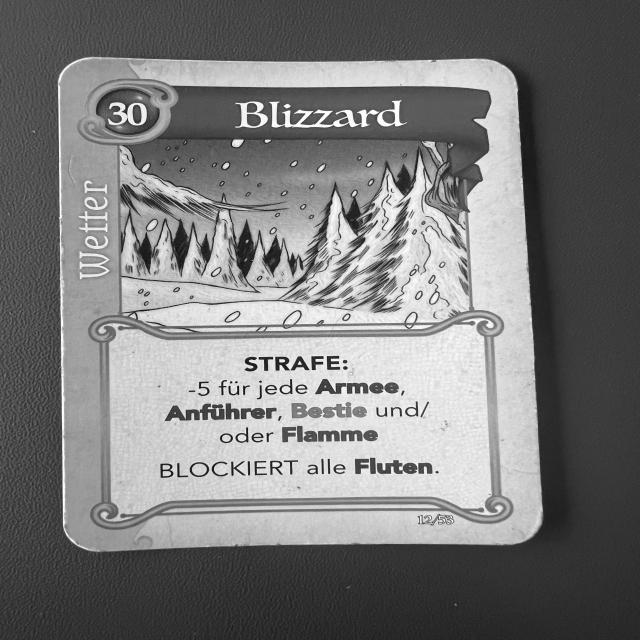Blizzard: (59, 54, 547, 552)
